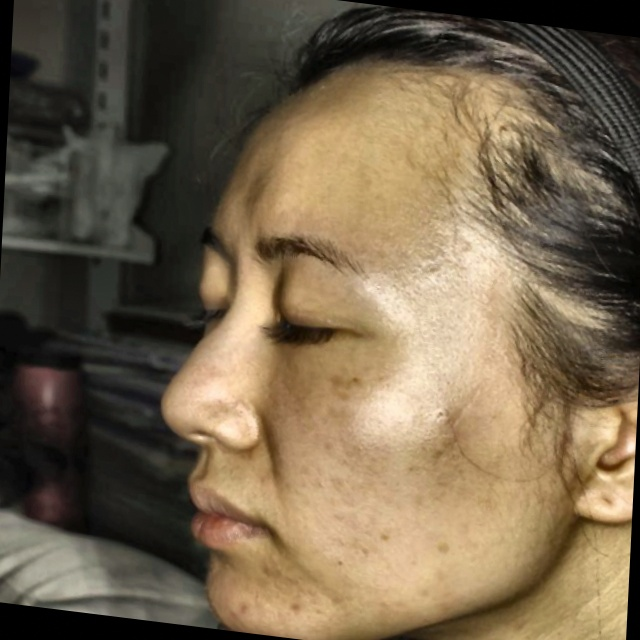comedone: (429, 400, 469, 437)
